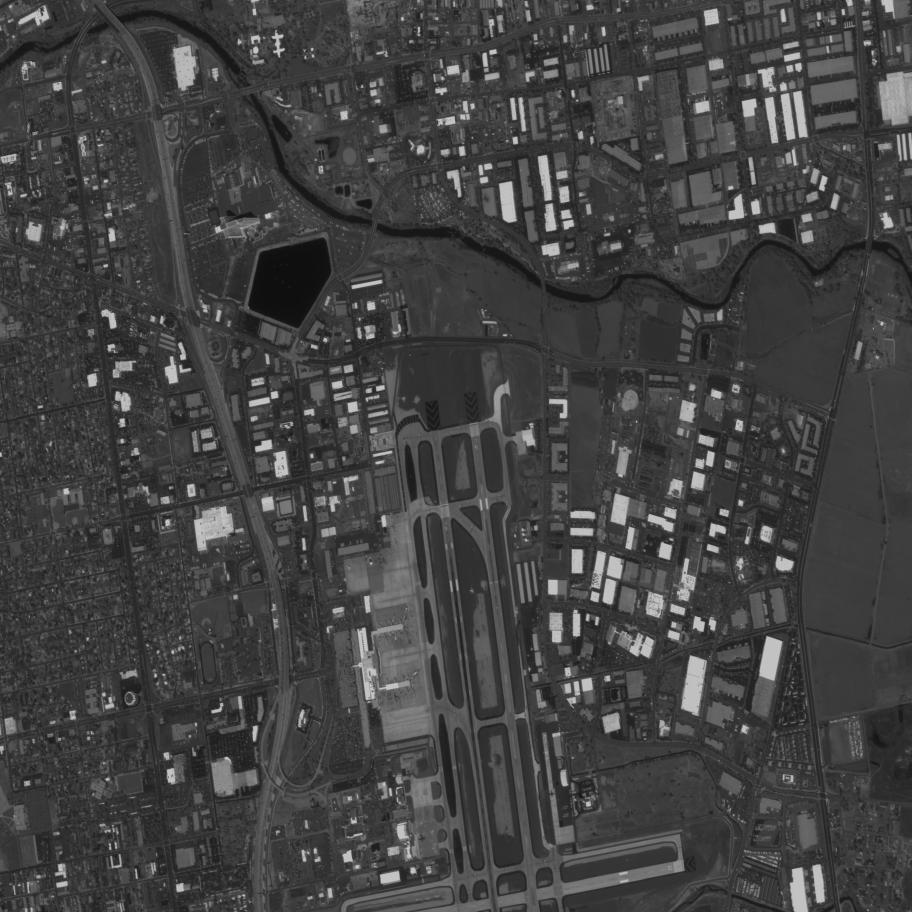plane: (361, 551, 376, 566), (398, 434, 412, 447), (344, 562, 354, 573), (416, 833, 427, 843), (410, 667, 420, 677), (547, 789, 557, 799), (404, 769, 413, 779), (390, 694, 400, 703), (401, 606, 410, 615), (526, 665, 533, 673), (407, 614, 414, 621), (392, 634, 398, 641), (542, 749, 549, 754), (544, 755, 549, 760), (530, 617, 535, 622), (529, 645, 533, 651), (542, 733, 547, 737)
storage-tank: (521, 528, 525, 532), (525, 539, 529, 542), (522, 533, 526, 536)
